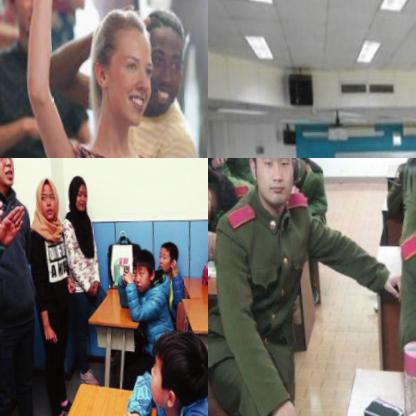head: (81, 0, 154, 131), (132, 5, 187, 123), (141, 331, 208, 416), (241, 158, 298, 204), (2, 0, 49, 38), (32, 175, 59, 221), (124, 248, 151, 294), (63, 175, 87, 214), (152, 237, 176, 276)
